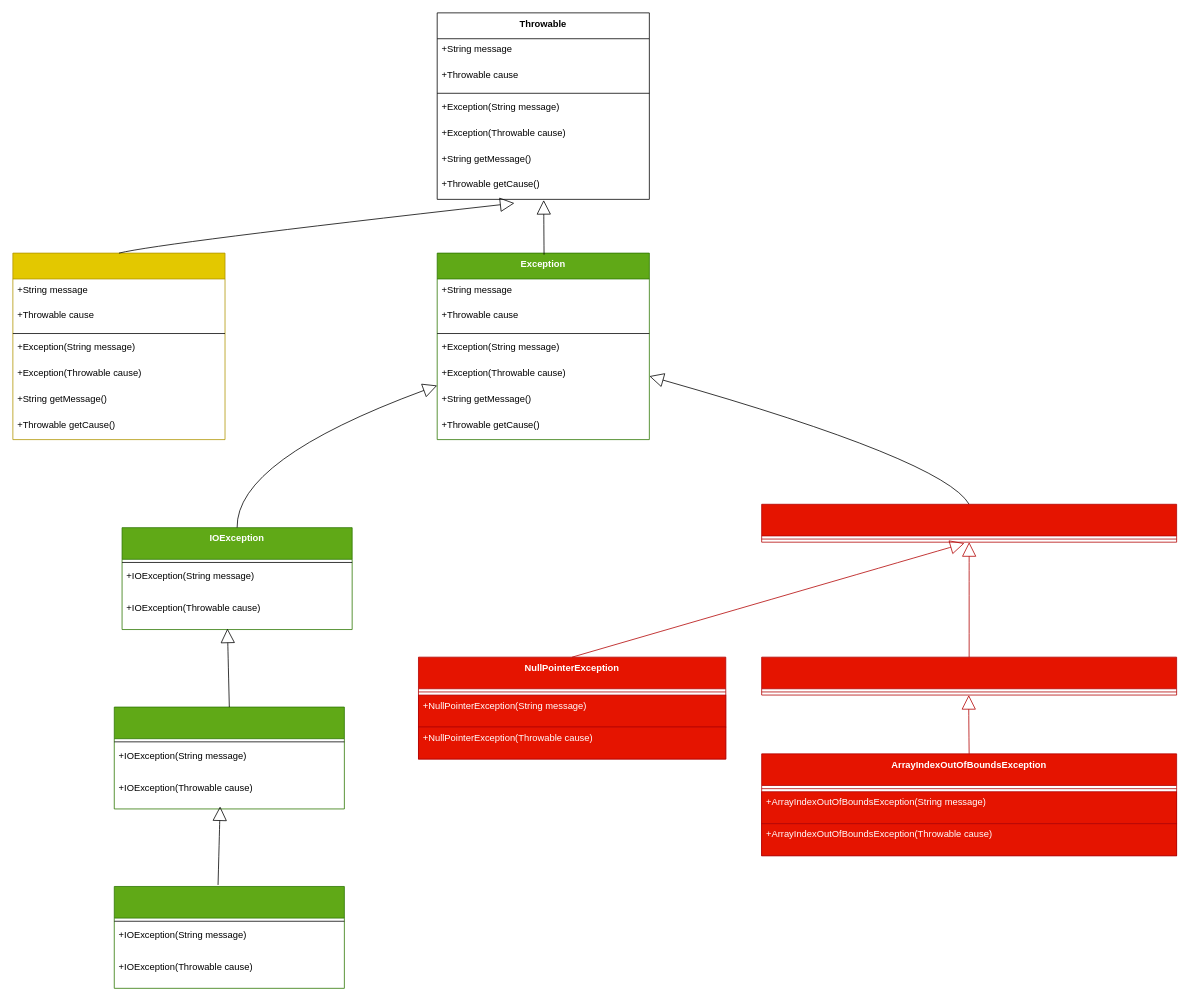
Some shapes in this 1190 by 1002 pixel diagram are drawn without their labels. The box of each missing label's shape, as (x1, y1, x2, y2) in pixels:
Error: (12, 252, 225, 440)
FileNotFoundException: (113, 706, 344, 809)
IndexOutOfBoundsException: (761, 656, 1177, 695)
RuntimeException: (761, 503, 1177, 542)
TextFileNotFoundException: (113, 886, 344, 988)
